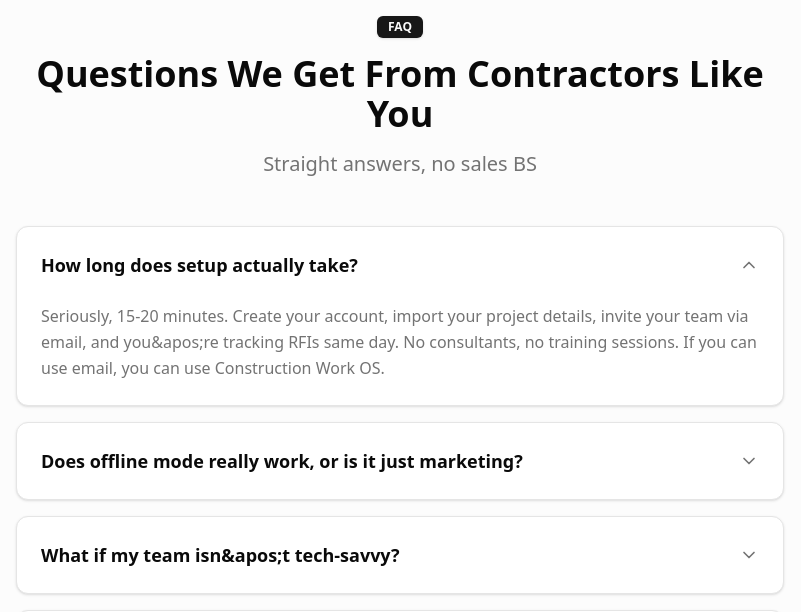
Test case: FAQSection › Accordion Functionality › should close currently open answer when opening another
// Click second question
Click the button "Does offline mode really work, or is it just marketing?". click: (400, 461)
box: [17,423,783,499]
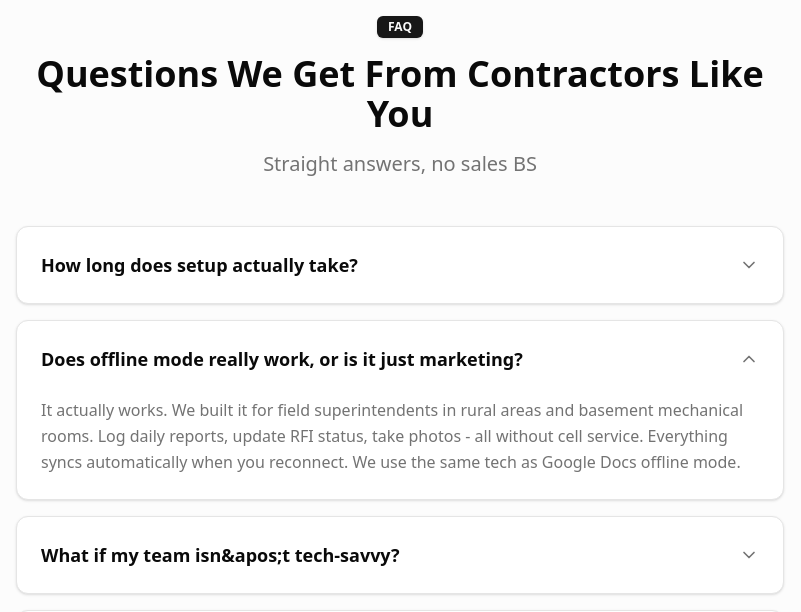
Expected: the text "It actually works" is shown, [41,399,743,473]
